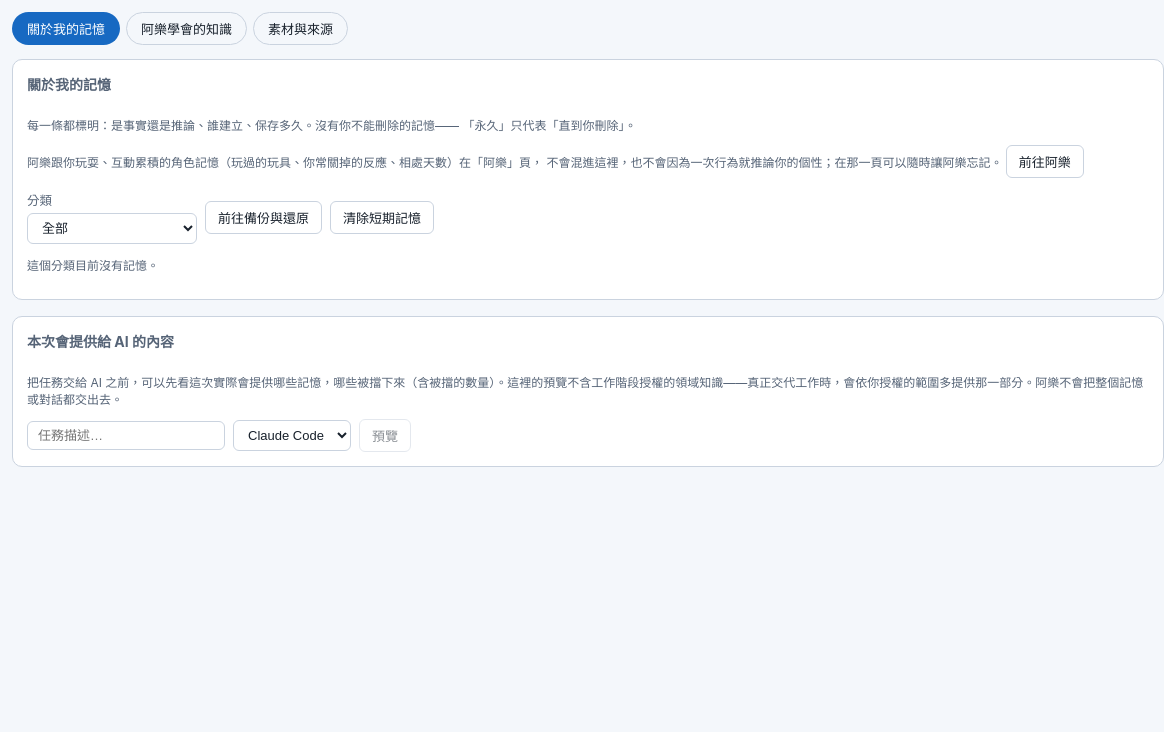
Test: 記憶與知識頁不寫死「小樞」 › 角色叫阿樂：分頁、前往按鈕、知識區標題、糾正面板都用阿樂，畫面沒有「小樞」
Expected: the text "阿樂跟你玩耍、互動累積的角色記憶" is shown, 27,145 -> 1149,178
Expected: the button "前往阿樂" is shown, 1006,145 -> 1084,178
Click the tab "阿樂學會的知識" at point(186, 28), box 126,12 -> 247,45
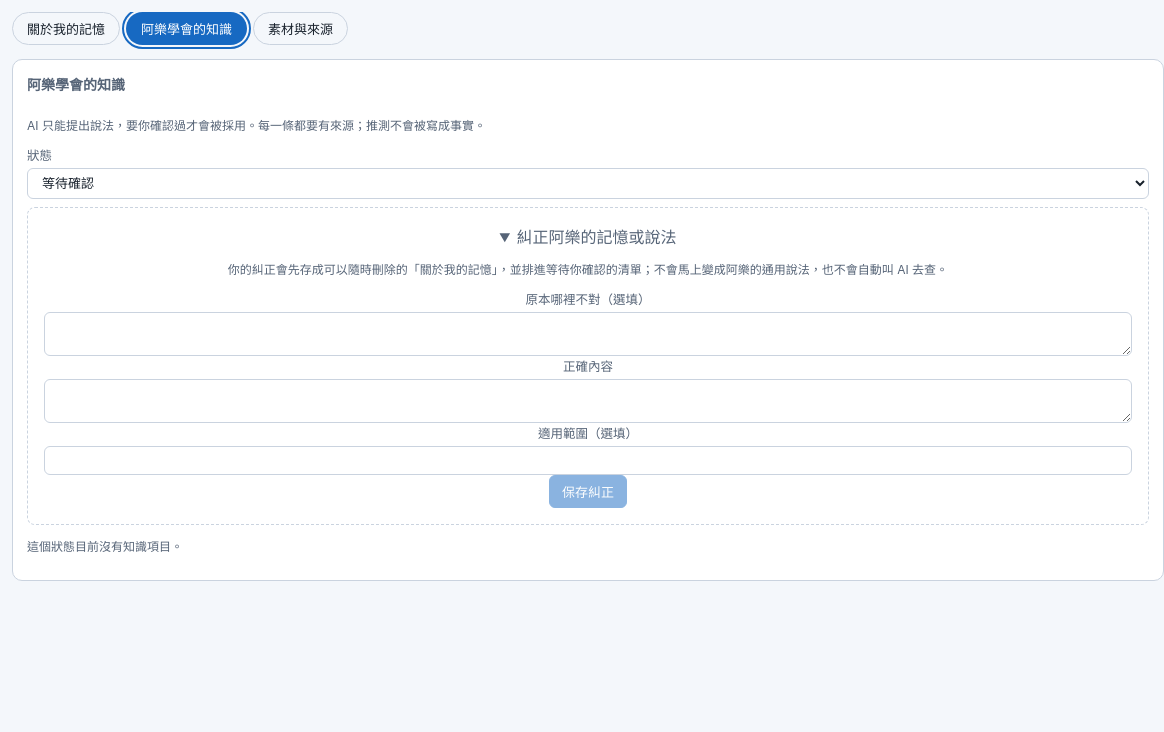
Now the heading "糾正阿樂的記憶或說法" is shown, box 516,227 -> 676,247
Now the text "不會馬上變成阿樂的通用說法" is shown, box 228,262 -> 948,277
Click the tab "素材與來源" at point(300, 28), box 253,12 -> 348,45
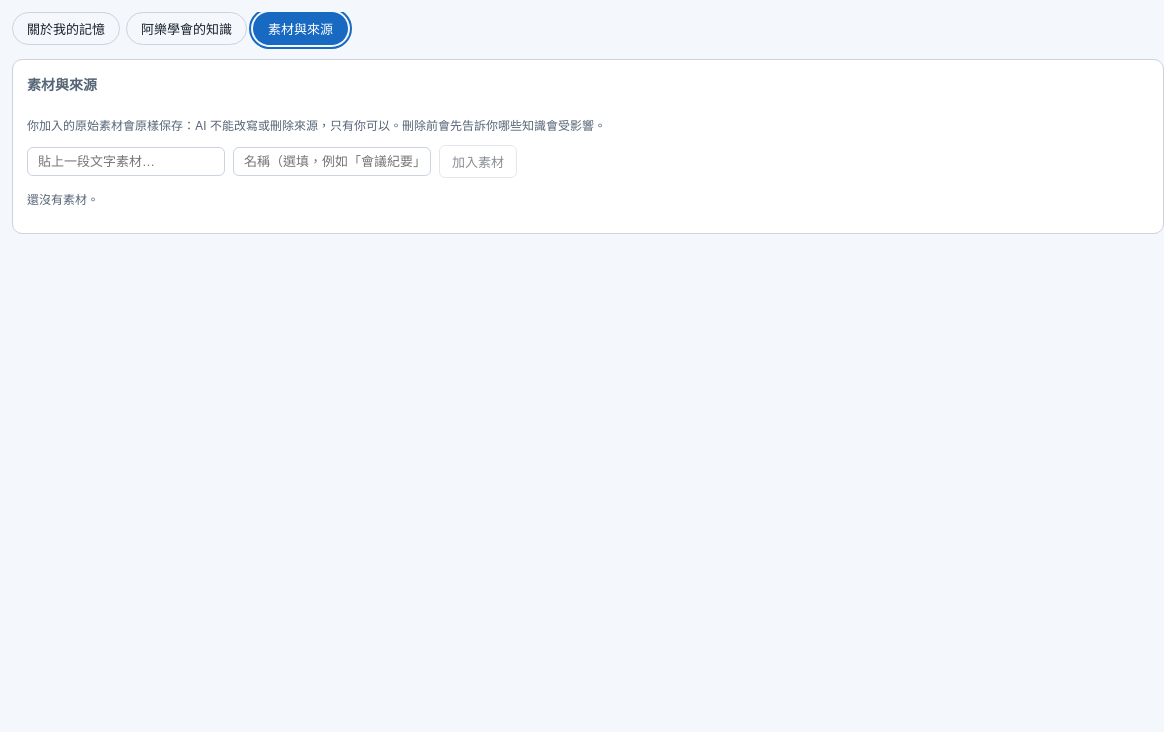
Now the button "加入素材" is shown, box 439,145 -> 517,178
Now the heading "素材與來源" is shown, box 27,74 -> 97,94
